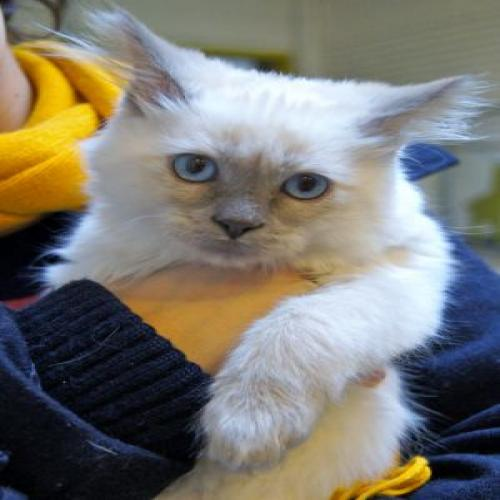ragdoll: (94, 27, 478, 273)
